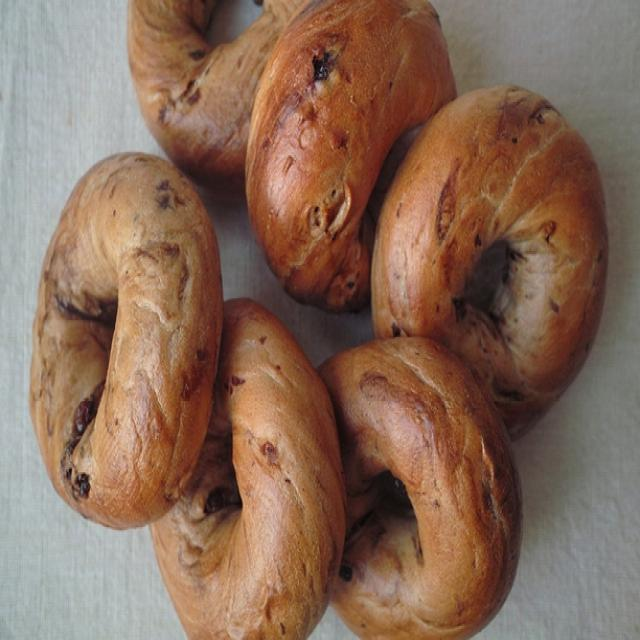面包点心: (22, 1, 614, 634)
